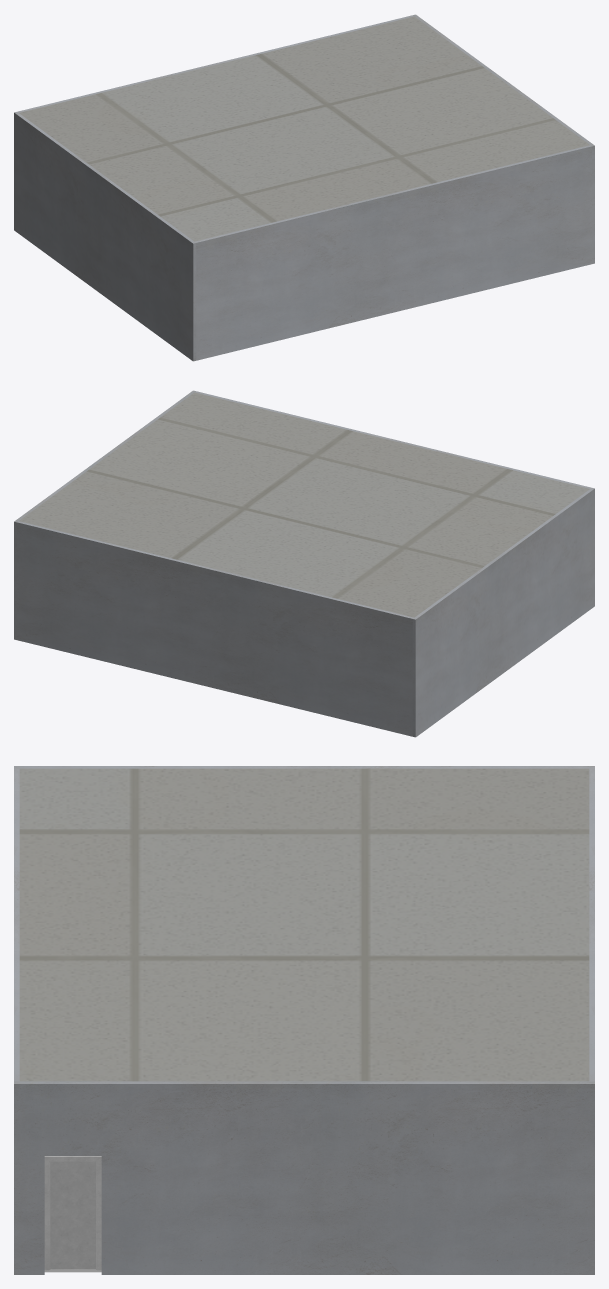
The model's file is CIC_Room.fbx.
3 renders of one model, top to bottom at view 1: azimuth 30°, elevation 25°; view 2: azimuth 150°, elevation 25°; view 3: azimuth 270°, elevation 25°, orthographic. The views are drawn at different scales.
Visible parts, largest first — view 1: CIC_Ceiling, CIC_Wall_Back, CIC_Wall_Left, CIC_Wall_Right, CIC_Wall_Front; view 2: CIC_Ceiling, CIC_Wall_Front, CIC_Wall_Left, CIC_Wall_Right, CIC_Wall_Back; view 3: CIC_Ceiling, CIC_Wall_Right, Door_In, CIC_Wall_Front, CIC_Wall_Back, Door_Out, CIC_Wall_Left.
Boxes of the visible parts, x1,y1,x2,y2 form: CIC_Ceiling: [19, 16, 589, 241]; CIC_Wall_Back: [195, 145, 591, 360]; CIC_Wall_Left: [14, 112, 196, 361]; CIC_Wall_Right: [413, 14, 594, 263]; CIC_Wall_Front: [17, 15, 413, 112]; CIC_Ceiling: [19, 392, 589, 617]; CIC_Wall_Front: [17, 521, 413, 736]; CIC_Wall_Left: [412, 488, 594, 737]; CIC_Wall_Right: [14, 390, 195, 639]; CIC_Wall_Back: [195, 391, 591, 488]; CIC_Ceiling: [19, 768, 589, 1081]; CIC_Wall_Right: [14, 1081, 594, 1274]; Door_In: [50, 1161, 95, 1269]; CIC_Wall_Front: [589, 768, 594, 1081]; CIC_Wall_Back: [14, 768, 19, 1081]; Door_Out: [44, 1156, 101, 1270]; CIC_Wall_Left: [14, 766, 594, 768].
Bounding box in the file's own units: 13.23 × 3.7 × 10.2.
